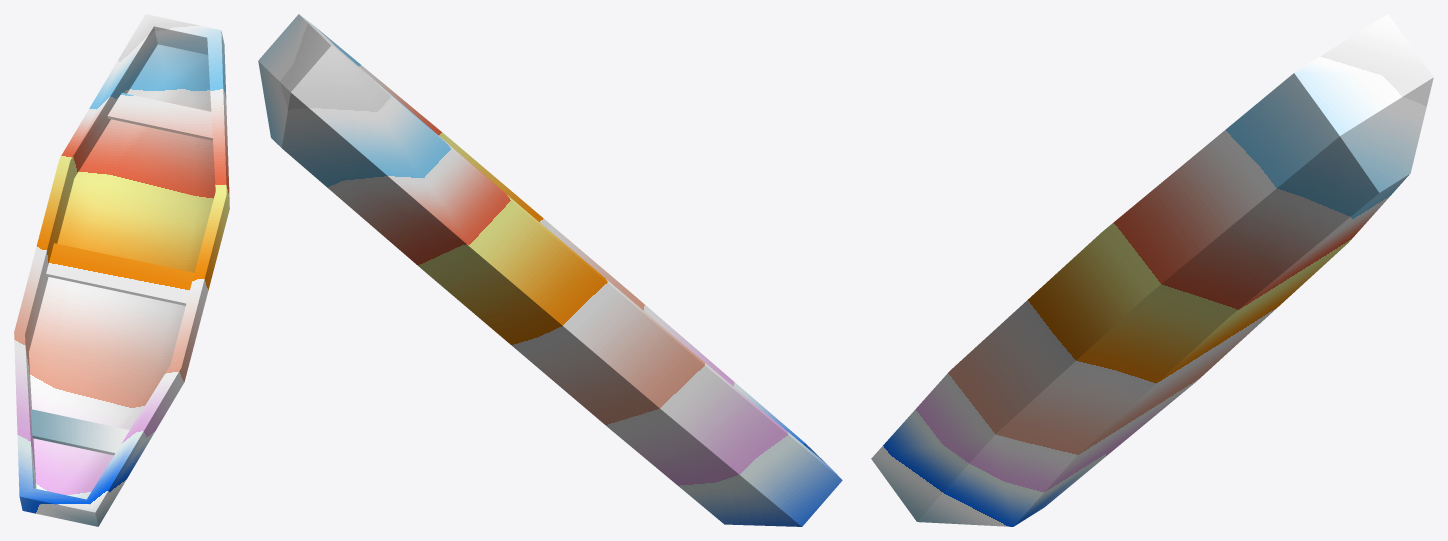
The model's file is left_arm.glb.
The picture shows the model from 3 angles, left to right: view 1: azimuth 30°, elevation 25°; view 2: azimuth 150°, elevation 25°; view 3: azimuth 270°, elevation 25°; orthographic projection. The views are drawn at different scales.
Parts seen in each view (by area): view 1: Wooden boat; view 2: Wooden boat; view 3: Wooden boat.
Part boxes in pixels (x1=…): Wooden boat: x1=14, y1=14, x2=229, y2=526; Wooden boat: x1=258, y1=14, x2=842, y2=526; Wooden boat: x1=871, y1=14, x2=1433, y2=526.
Bounding box in the file's own units: 0.5777 × 0.663 × 0.5093.
1 material, 1 textured.
